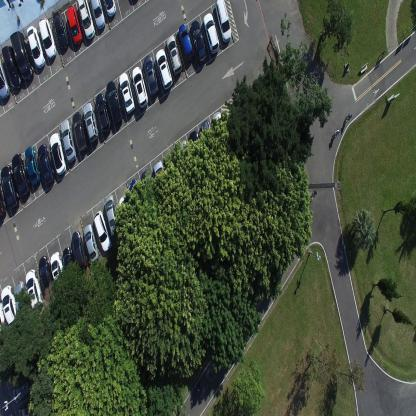car: (9, 30, 33, 81), (1, 45, 22, 90), (0, 164, 19, 210), (24, 268, 44, 311), (214, 0, 233, 44), (26, 26, 45, 70), (11, 152, 30, 196), (93, 210, 112, 252), (189, 20, 207, 64), (155, 47, 173, 91), (94, 93, 112, 136), (76, 0, 95, 40), (38, 16, 56, 58), (51, 10, 69, 51), (106, 80, 122, 125), (50, 132, 66, 177), (82, 101, 99, 143), (66, 4, 83, 46), (203, 11, 219, 55), (118, 71, 134, 115), (60, 119, 76, 163), (38, 254, 54, 298), (104, 193, 119, 239), (166, 34, 182, 77), (142, 54, 158, 97), (176, 24, 193, 64), (72, 230, 89, 270), (50, 250, 65, 295), (132, 66, 148, 108), (1, 284, 17, 326), (38, 142, 53, 186), (72, 112, 88, 153), (83, 222, 99, 263), (24, 146, 40, 186), (154, 159, 170, 197), (212, 111, 228, 148), (188, 129, 204, 166), (14, 280, 28, 322), (200, 119, 216, 154), (177, 139, 193, 174), (62, 245, 76, 285), (140, 168, 156, 202), (128, 178, 144, 212), (118, 194, 134, 227), (89, 0, 105, 30), (0, 58, 11, 98), (0, 180, 7, 218), (102, 0, 116, 18)
